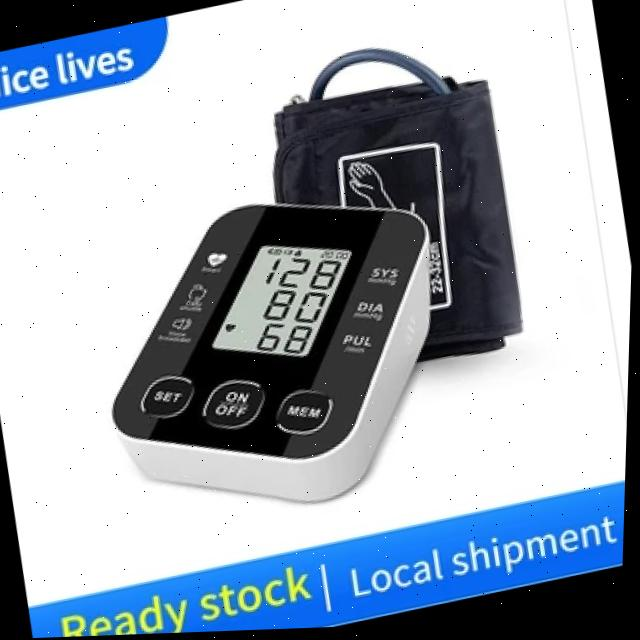dia: (254, 286, 332, 332)
pul: (252, 320, 319, 360)
ssd: (214, 217, 352, 383)
sys: (260, 255, 346, 295)
